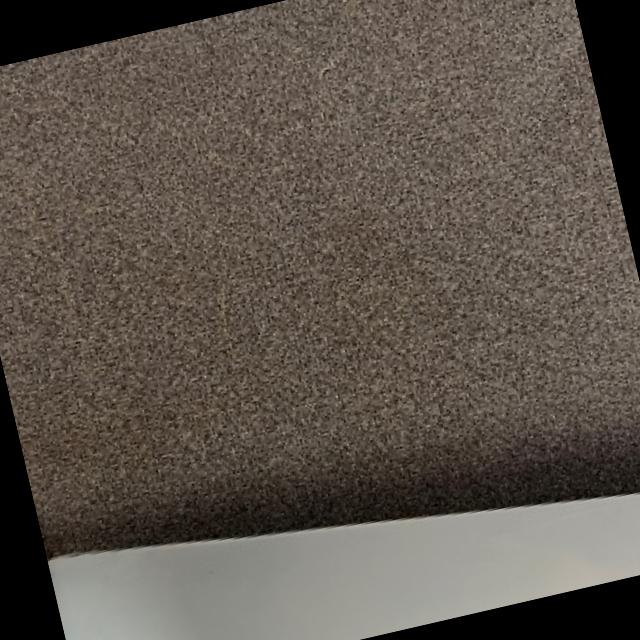healthy: (47, 491, 640, 640)
